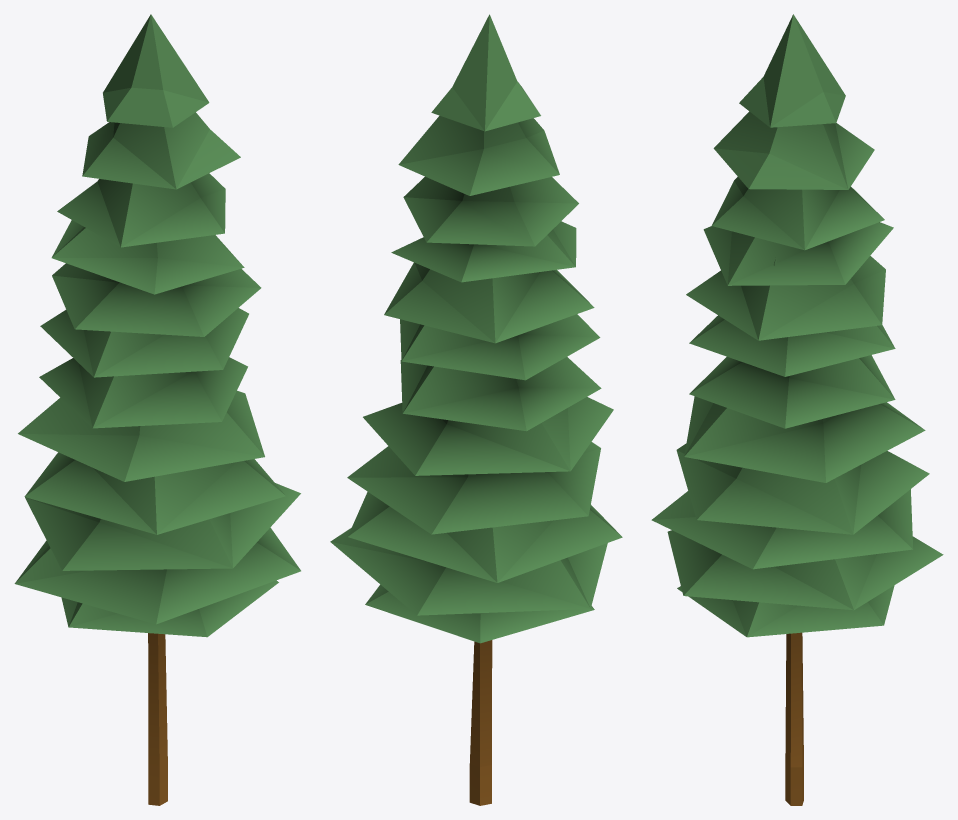
File: pine.fbx
3 renders of one model, left to right at view 1: azimuth 30°, elevation 25°; view 2: azimuth 150°, elevation 25°; view 3: azimuth 270°, elevation 25°, orthographic.
Parts seen in each view (by area): view 1: pine; view 2: pine; view 3: pine.
Part boxes in pixels (bbox=[...]): pine: bbox=[14, 14, 300, 805]; pine: bbox=[330, 14, 622, 805]; pine: bbox=[651, 14, 943, 805].
Size of the model in its own units: 680 by 2064 by 697.
